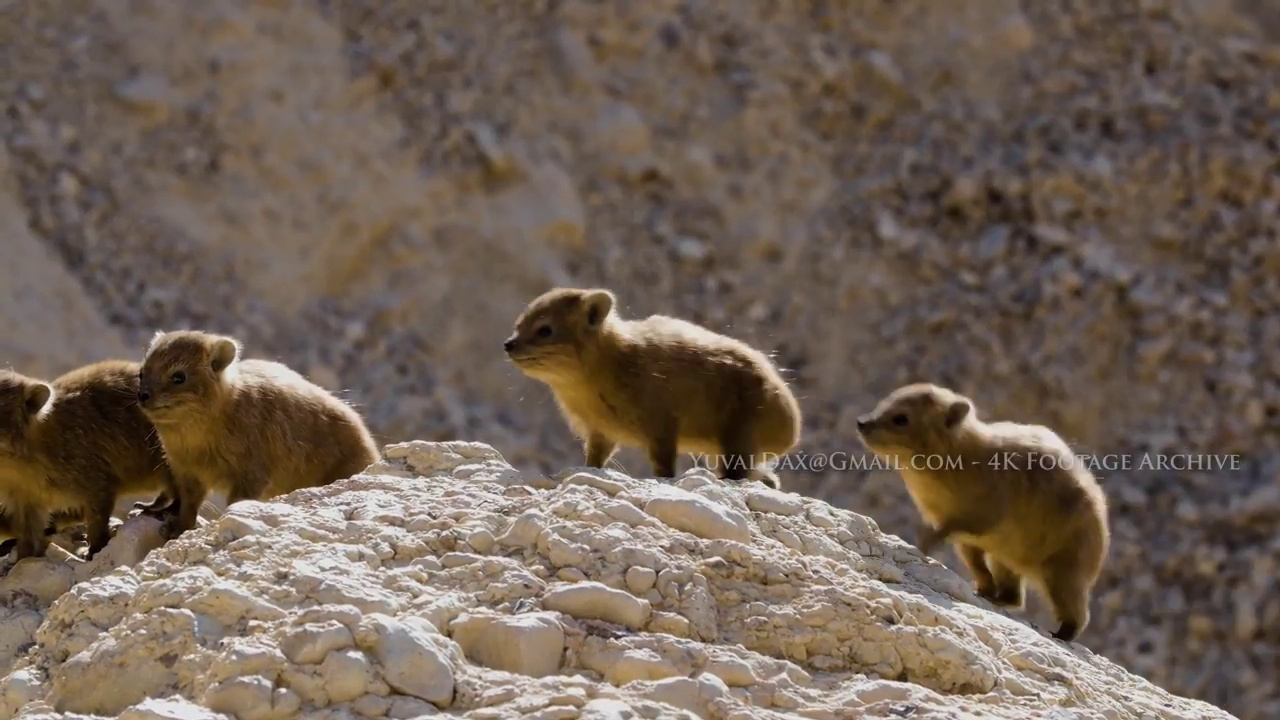Rock Hyrex: (850, 383, 1105, 644), (497, 282, 806, 486), (131, 331, 383, 533), (1, 357, 157, 572)
